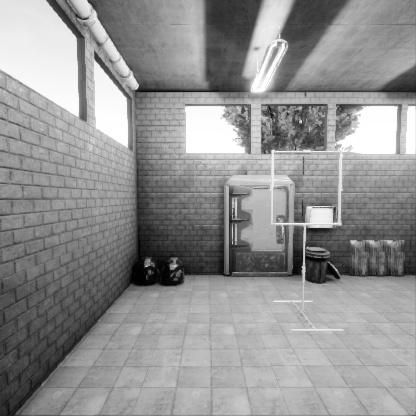gate: (271, 193, 348, 268)
